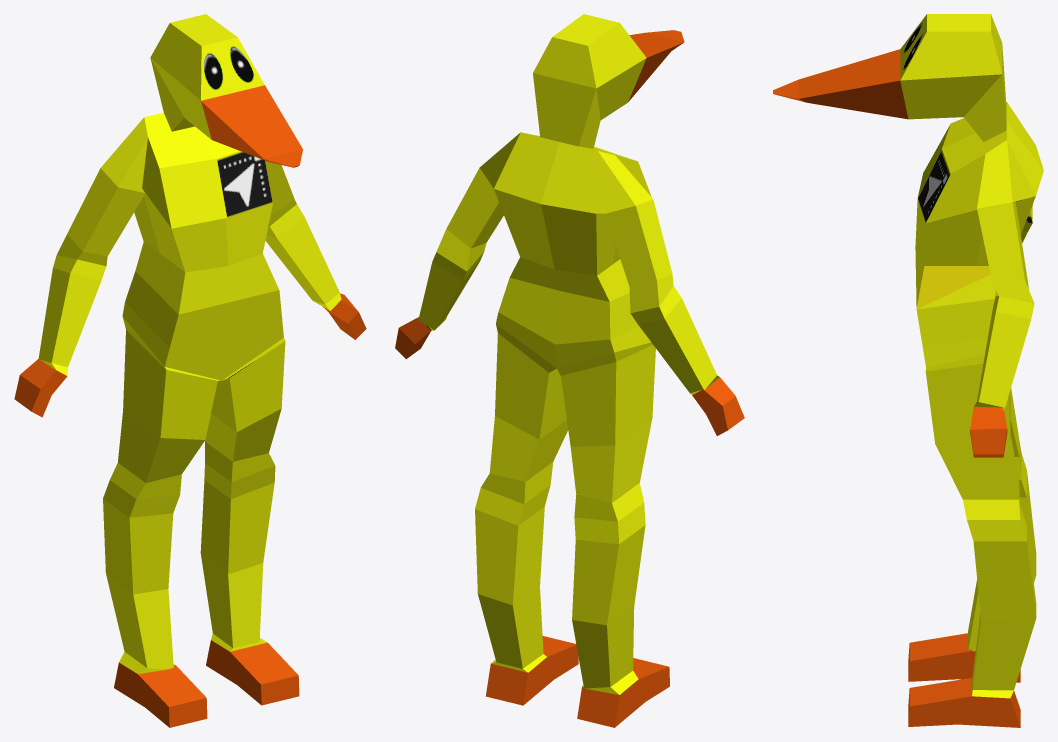
File: DuckStand.glb
3 views of the same model, side by side, from view 1: azimuth 30°, elevation 25°; view 2: azimuth 150°, elevation 25°; view 3: azimuth 270°, elevation 25° (orthographic).
Visible parts, largest first — view 1: hand; view 2: hand; view 3: hand.
Part boxes in pixels (bbox=[...]): hand: bbox=[14, 14, 366, 727]; hand: bbox=[395, 14, 744, 727]; hand: bbox=[773, 14, 1043, 727].
Size of the model in its own units: 1.33 by 2.52 by 0.9232.
1 material, 1 textured.
